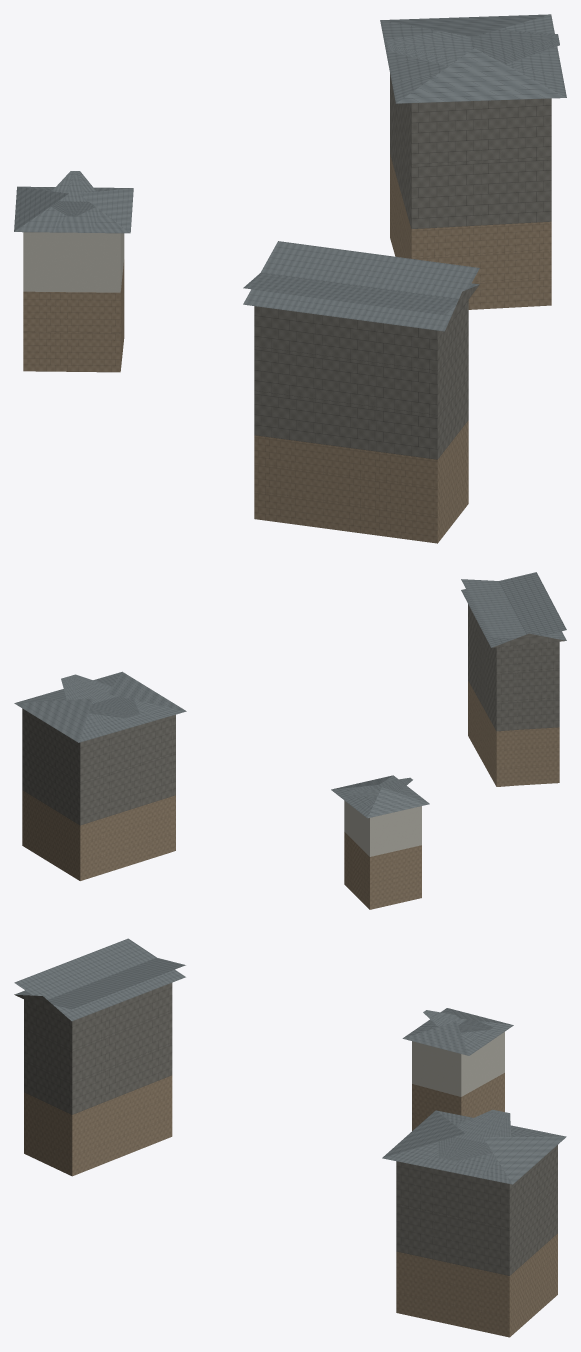
Rendered from bld_c-3_17_536.gltf.
The picture shows the model from 3 angles, top to bottom: view 1: azimuth 30°, elevation 25°; view 2: azimuth 150°, elevation 25°; view 3: azimuth 270°, elevation 25°; orthographic projection. The views are drawn at different scales.
Visible parts, largest first — view 1: bld_c-3_17_536; view 2: bld_c-3_17_536; view 3: bld_c-3_17_536.
Part boxes in pixels (x1,y1,x2,y2): bld_c-3_17_536: (14,14,566,543); bld_c-3_17_536: (14,572,566,909); bld_c-3_17_536: (14,938,566,1337).
Size of the model in its own units: 37.06 by 16.5 by 41.61.
Materials: 5 (5 with a texture image).
